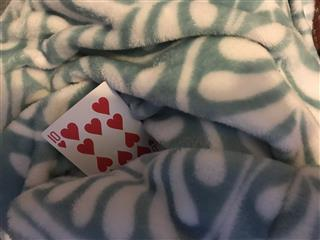TenOfHearts: (39, 80, 165, 176)
